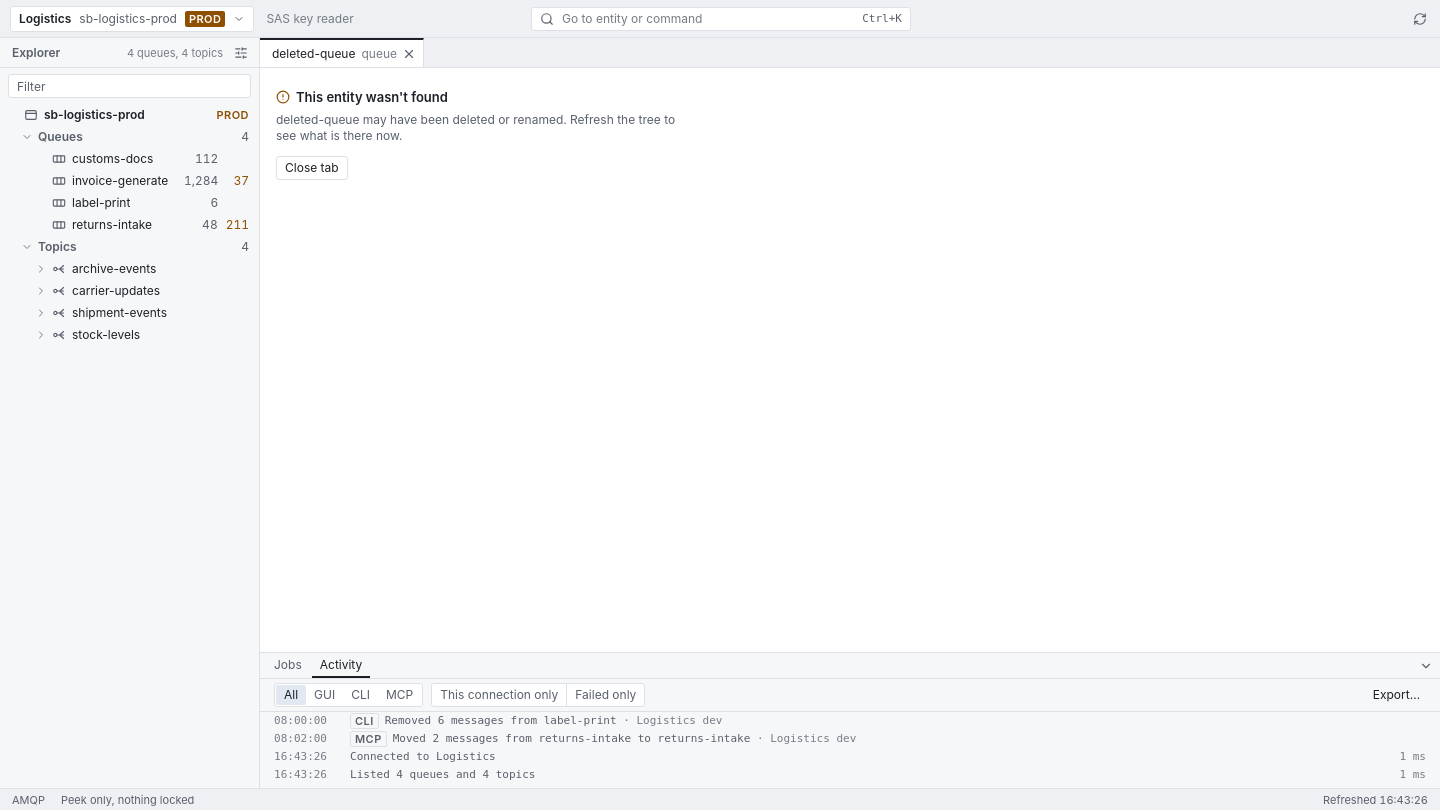
Scenario: entity tabs › tab_for_missing_entity_shows_gone_state
The image size is (1440, 810).
Expected: the heading "This entity wasn't found" is shown, top-left (276, 89), bottom-right (448, 105)
Click the button "Close tab". click: (312, 168)
box: top-left (276, 156), bottom-right (348, 180)
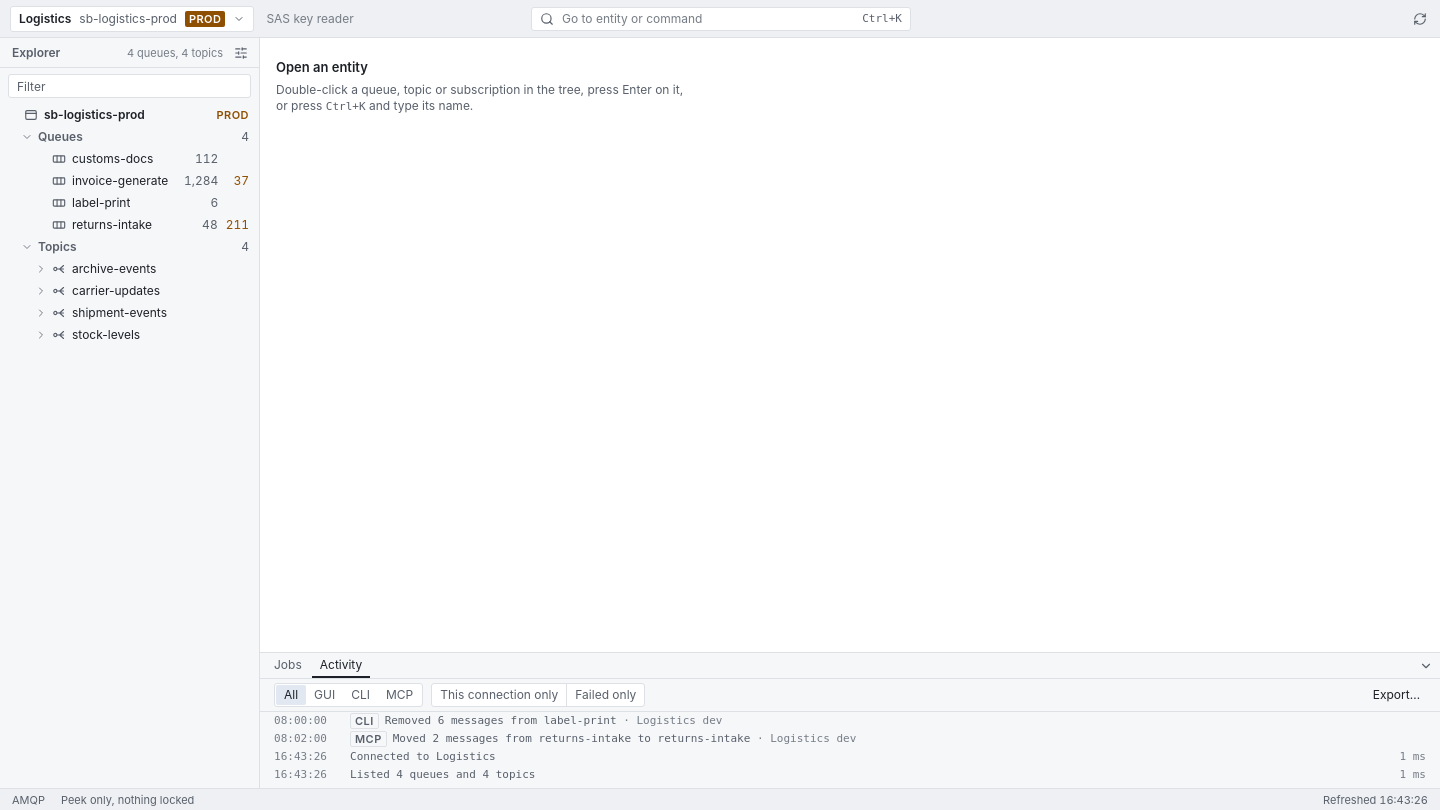
Now the tab "deleted-queue" is gone
